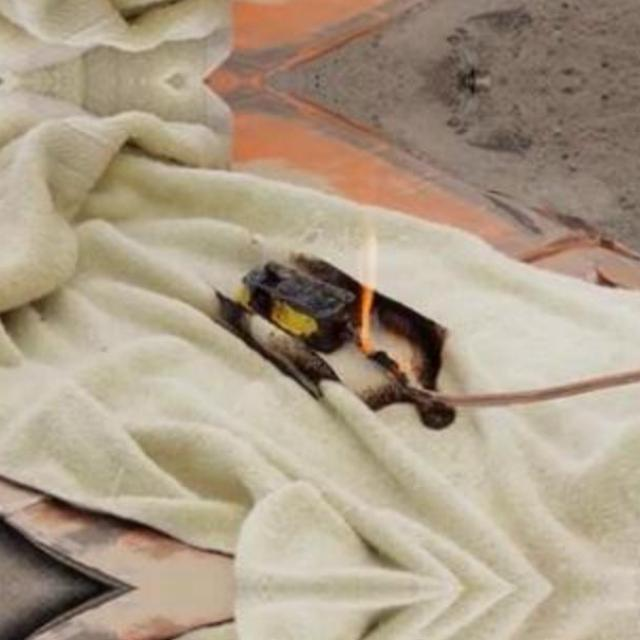smoke: (352, 216, 417, 378)
